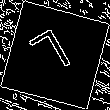L_SE: (29, 25, 81, 85)
